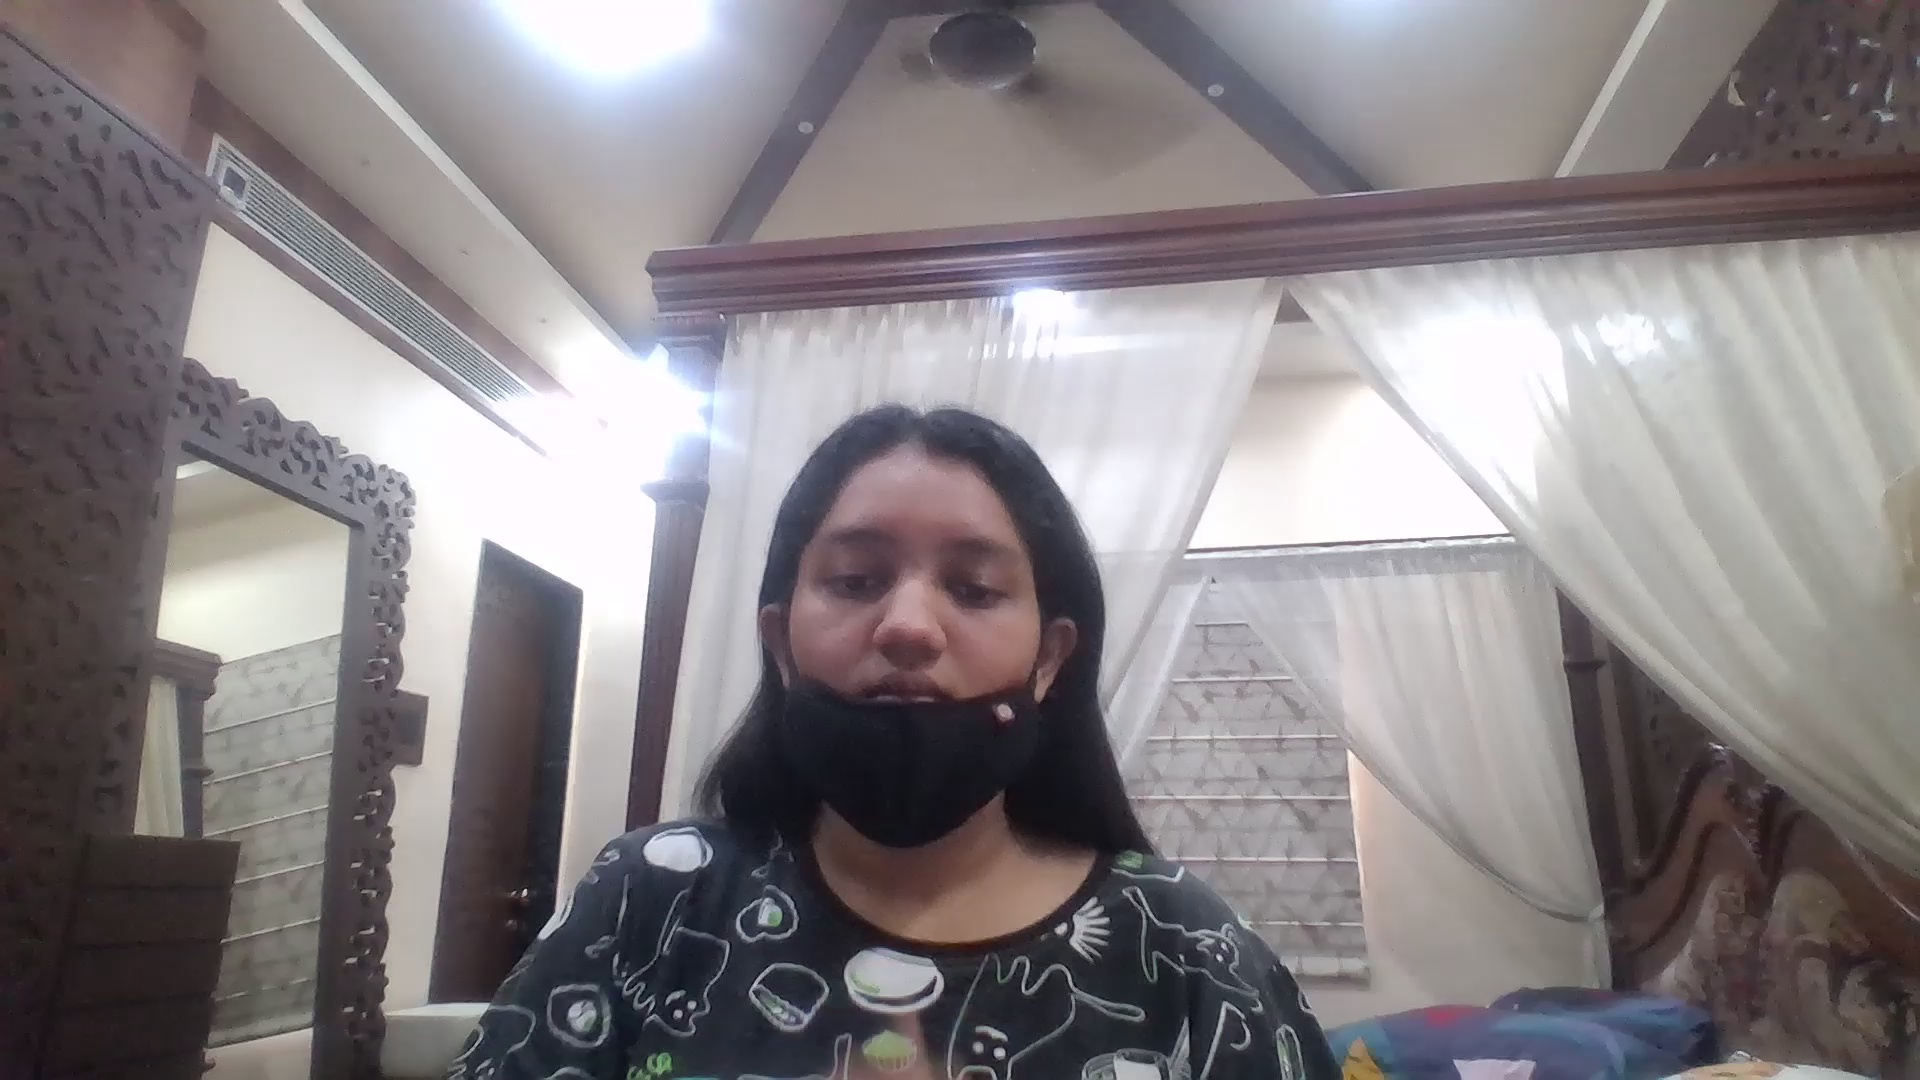No Mask: (769, 622, 1036, 861)
